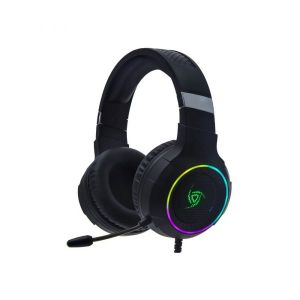headset: (60, 41, 240, 254)
